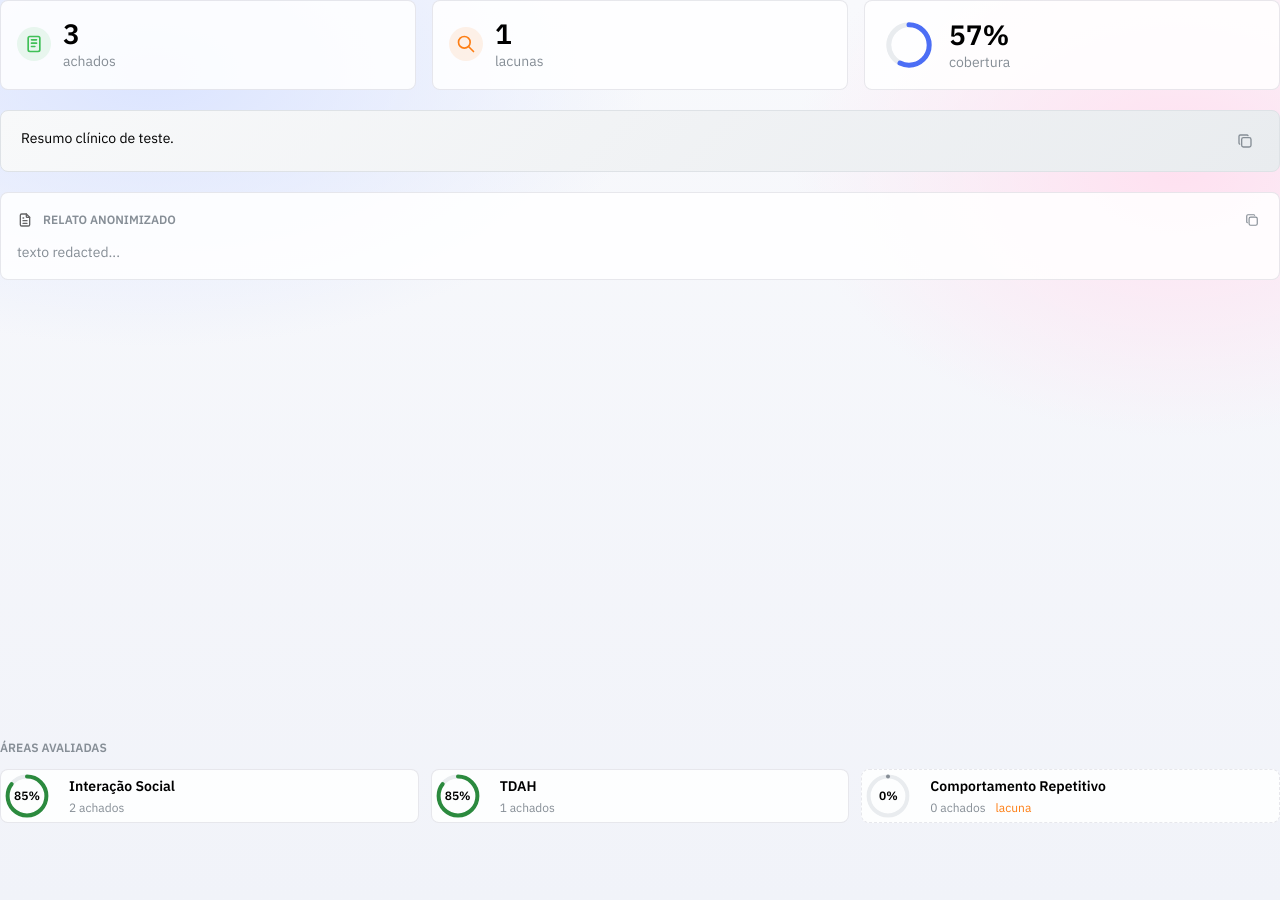
Test case: ClinicalDashboard › expands domain detail when card is clicked
Click the text "Interação Social" at point(209, 796), box left=0, top=769, right=419, bottom=823
(page scrolled)
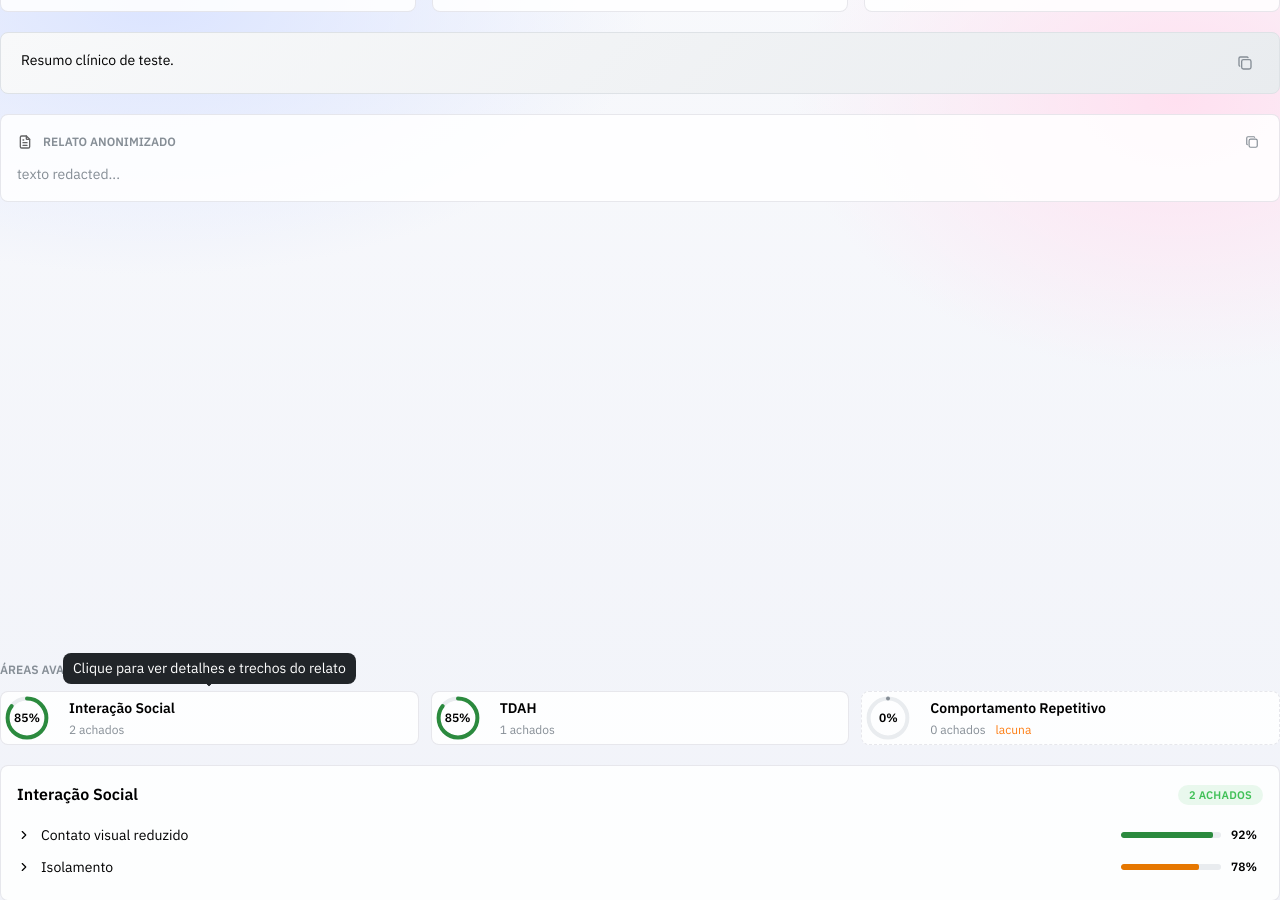
Now the text "Contato visual reduzido" is shown, box left=41, top=825, right=188, bottom=845
